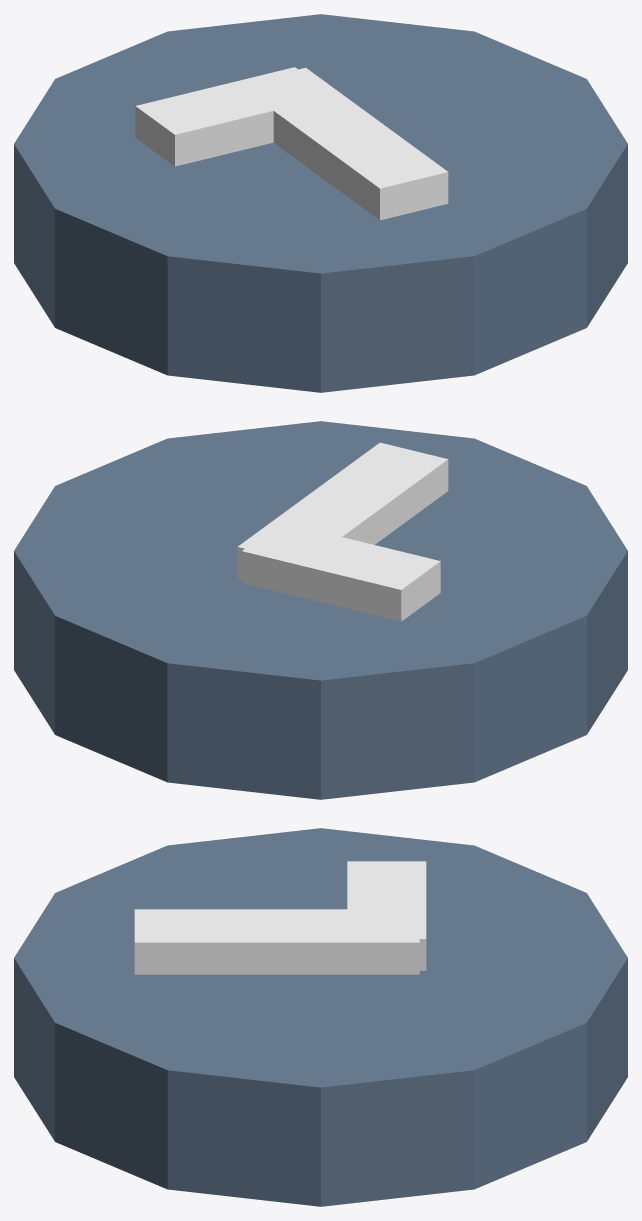
The model's file is Link_Port_Input_Free_v001.fbx.
3 views of the same model, one above another, from view 1: azimuth 30°, elevation 25°; view 2: azimuth 150°, elevation 25°; view 3: azimuth 270°, elevation 25° (orthographic).
Visible parts, largest first — view 1: PortDisc, PortDirection, PortDirection.001; view 2: PortDisc, PortDirection, PortDirection.001; view 3: PortDisc, PortDirection, PortDirection.001.
Part boxes in pixels (x1,y1,x2,y2): PortDisc: [14, 14, 627, 392]; PortDirection: [259, 67, 448, 220]; PortDirection.001: [135, 67, 327, 166]; PortDisc: [14, 421, 627, 799]; PortDirection: [237, 442, 448, 579]; PortDirection.001: [241, 523, 440, 621]; PortDisc: [14, 828, 627, 1206]; PortDirection: [134, 909, 419, 974]; PortDirection.001: [347, 861, 426, 970].
Size of the model in its own units: 14 by 3.8 by 14.
